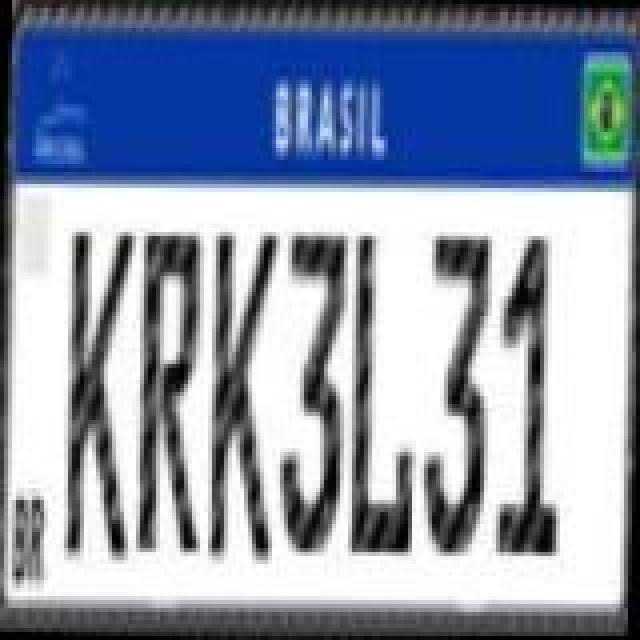1: (490, 230, 574, 562)
3: (270, 226, 354, 554), (414, 230, 498, 558)
K: (202, 228, 286, 564), (60, 222, 140, 562)
L: (338, 228, 422, 556)
R: (132, 228, 212, 556)
